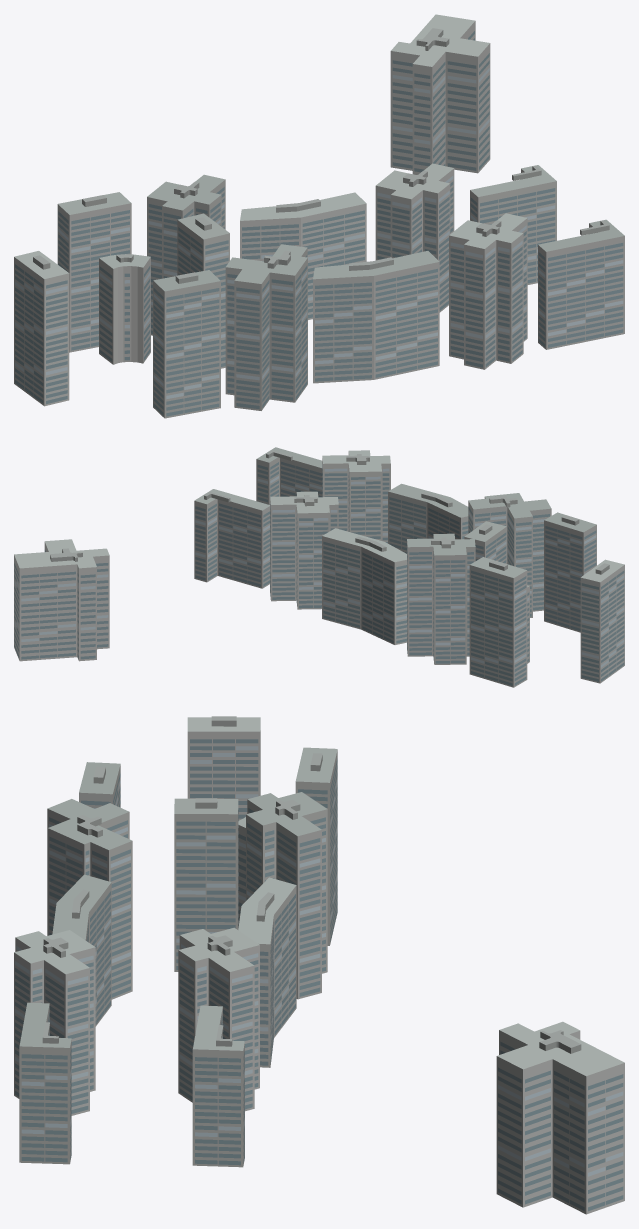
Rendered from apt-a13671208.glb.
3 renders of one model, top to bottom at view 1: azimuth 30°, elevation 25°; view 2: azimuth 150°, elevation 25°; view 3: azimuth 270°, elevation 25°, orthographic. The views are drawn at different scales.
Visible parts, largest first — view 1: apt-a13671208; view 2: apt-a13671208; view 3: apt-a13671208.
Part boxes in pixels (x1=…): apt-a13671208: x1=14, y1=14, x2=624, y2=418; apt-a13671208: x1=14, y1=447, x2=624, y2=687; apt-a13671208: x1=14, y1=716, x2=624, y2=1214.
Bounding box in the file's own units: 299 × 68 × 223.
